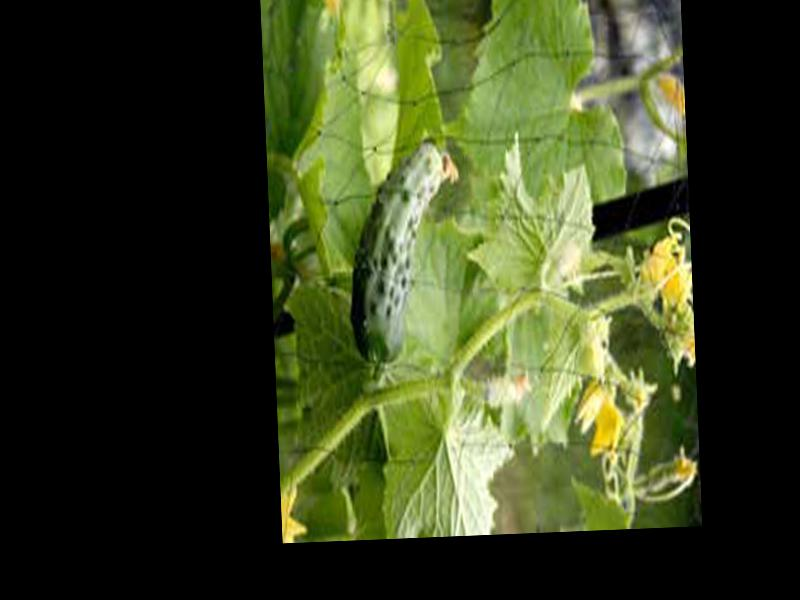Cucumber: (345, 138, 467, 369)
